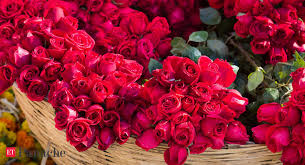rose: (12, 10, 100, 94), (148, 71, 223, 145), (69, 67, 128, 141), (242, 1, 300, 53), (258, 97, 305, 160)
